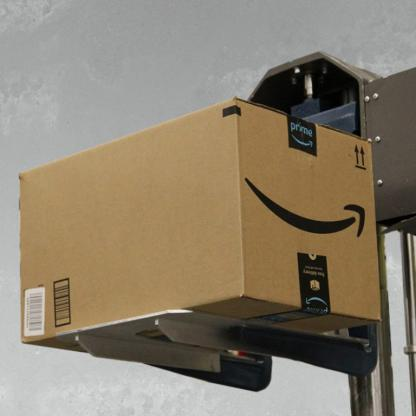package: (18, 96, 379, 354)
